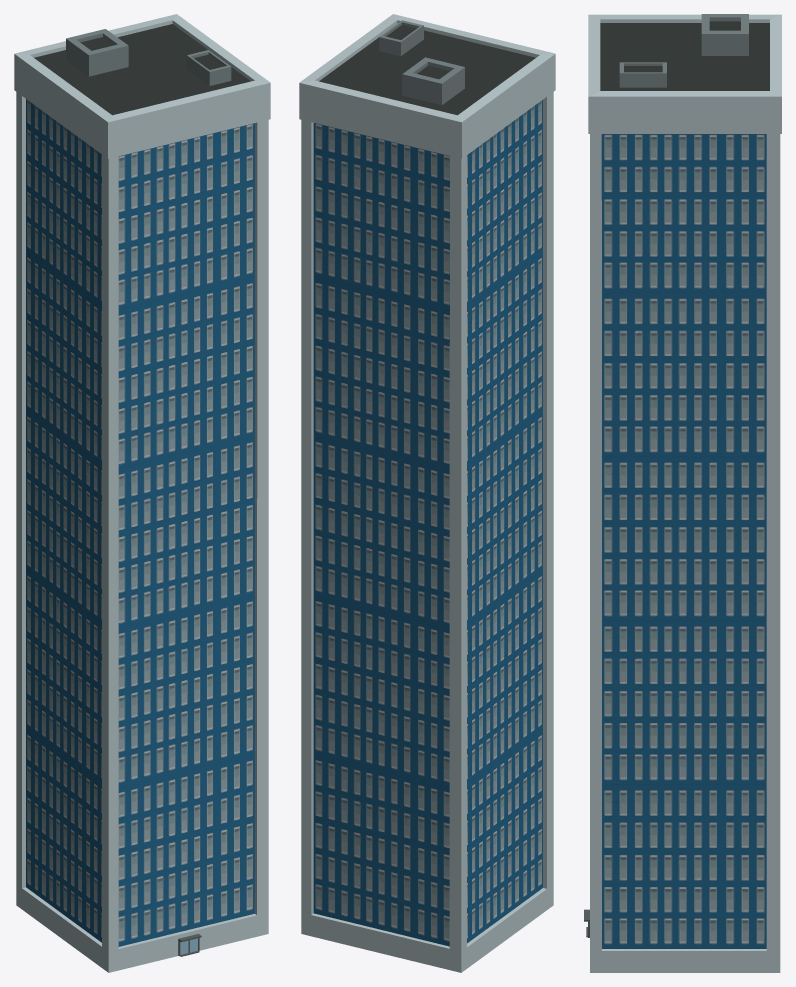
Rendered from High Tower Even Higher.glb.
3 views of the same model, side by side, from view 1: azimuth 30°, elevation 25°; view 2: azimuth 150°, elevation 25°; view 3: azimuth 270°, elevation 25° (orthographic). The views are drawn at different scales.
Parts seen in each view (by area): view 1: High Tower Even Higher; view 2: High Tower Even Higher; view 3: High Tower Even Higher.
Boxes of the visible parts, box(x1,y1,x2,y2) form: High Tower Even Higher: box(14, 14, 270, 972); High Tower Even Higher: box(299, 14, 555, 972); High Tower Even Higher: box(584, 14, 781, 972).
Bounding box in the file's own units: 0.6846 × 3.5 × 0.6999.
1 material, 1 textured.
